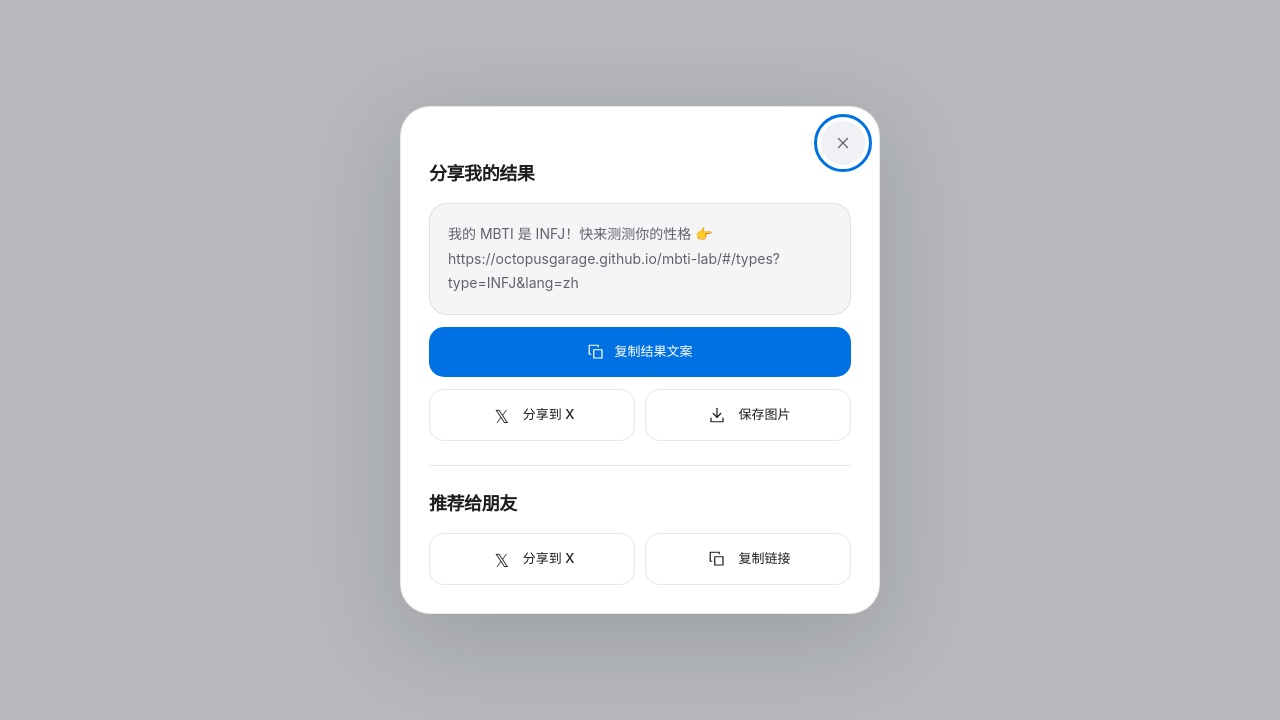
Test case: previews and copies a type-only caption with one canonical deep link
Expected: the text with class "share-text-preview" is shown, [429,203,851,315]
Click the button "复制结果文案" at (640, 352), box [429,327,851,377]
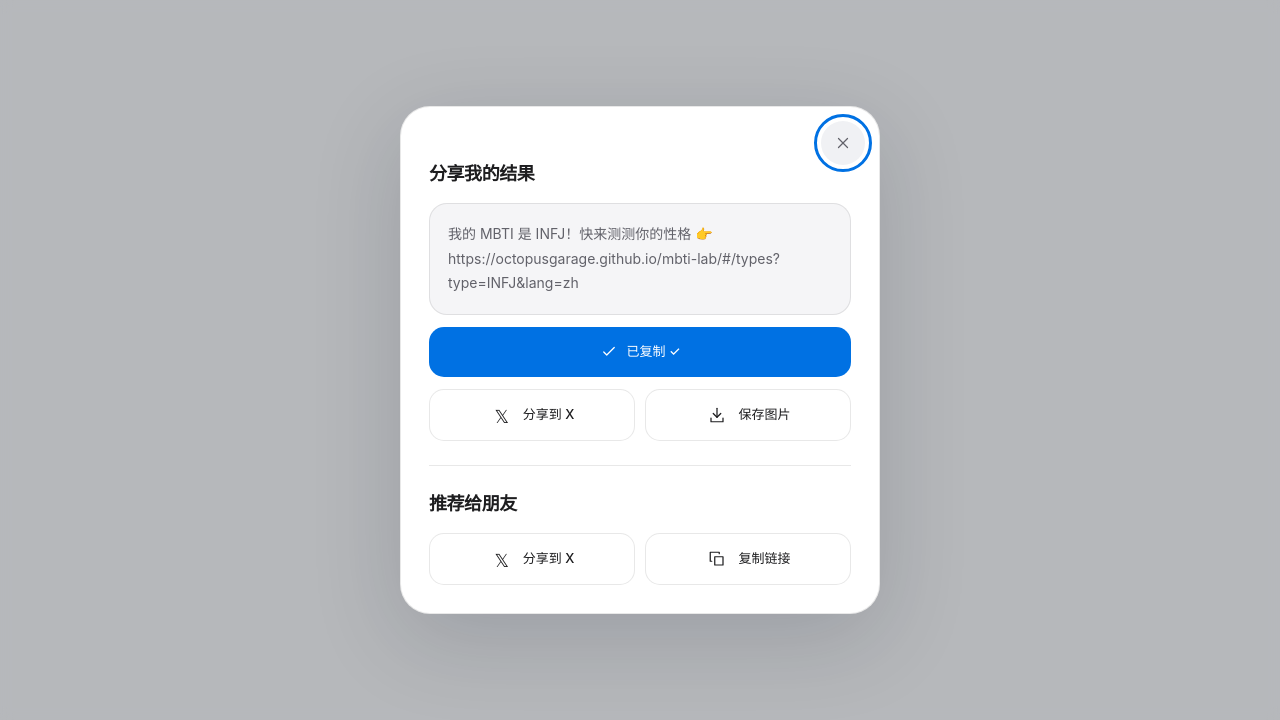
Expected: the button "复制链接" is shown, [645,533,851,585]
Expected: the button "已复制 ✓" is shown, [429,327,851,377]
